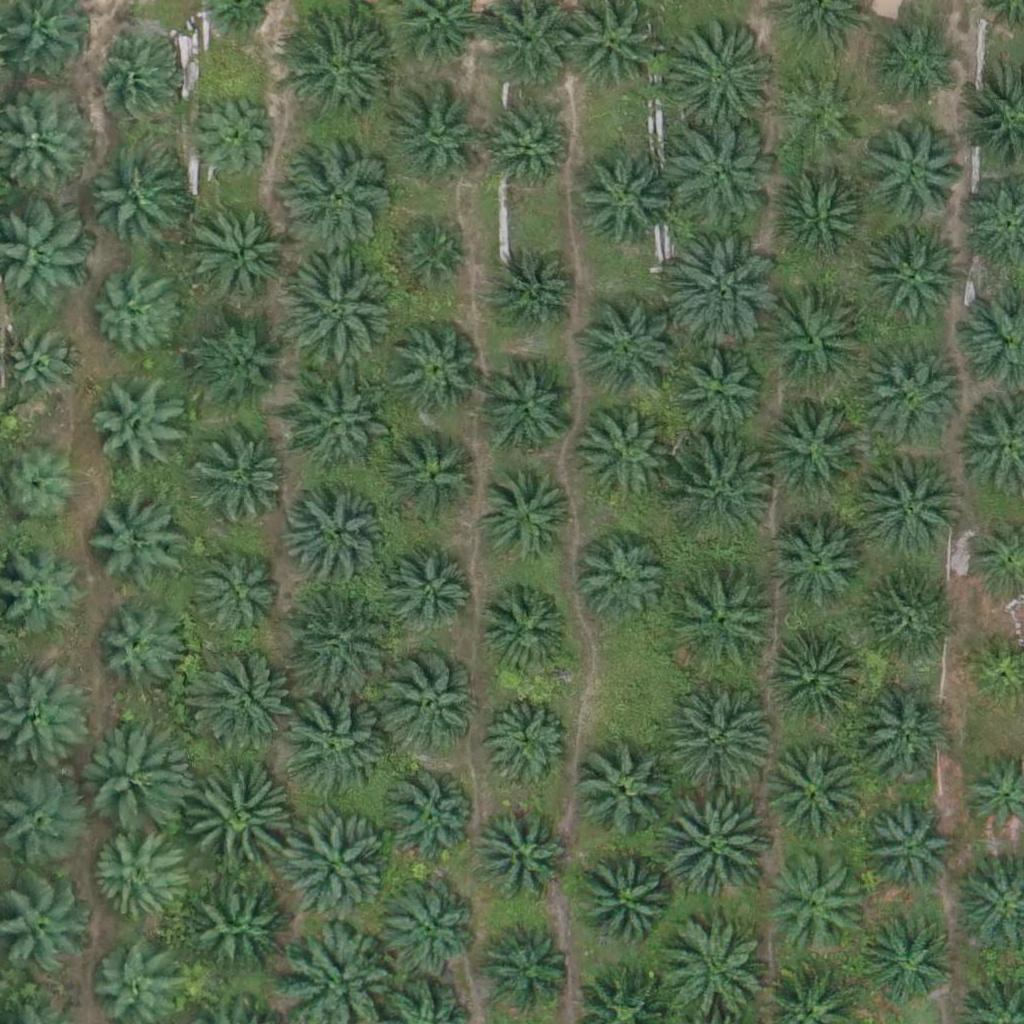Kelapa_Sawit: (185, 641, 298, 755), (277, 260, 390, 374), (279, 689, 392, 803), (666, 18, 779, 132), (663, 435, 776, 549), (667, 571, 780, 685), (277, 143, 390, 256), (282, 583, 395, 696), (662, 238, 775, 351), (660, 683, 773, 796), (760, 284, 873, 397), (663, 790, 776, 903), (275, 809, 388, 922), (179, 768, 291, 881), (280, 10, 392, 123), (668, 125, 780, 238), (760, 394, 872, 507), (858, 337, 970, 450), (854, 452, 966, 565), (75, 722, 175, 823), (188, 201, 288, 302), (286, 380, 386, 481), (288, 489, 388, 590), (386, 424, 486, 525), (475, 469, 575, 570), (575, 740, 675, 841), (570, 533, 670, 634), (573, 408, 673, 509), (581, 300, 681, 401), (575, 150, 675, 251), (666, 347, 766, 448), (771, 628, 871, 729), (771, 511, 871, 612), (769, 166, 869, 267), (860, 231, 960, 332), (855, 575, 955, 676), (860, 684, 960, 785), (763, 849, 863, 950), (193, 883, 293, 984), (86, 151, 186, 251), (89, 368, 189, 468), (87, 484, 187, 584), (185, 540, 285, 640), (192, 427, 292, 527), (191, 319, 291, 419), (386, 651, 486, 751), (385, 319, 485, 419), (486, 246, 586, 346), (479, 362, 579, 462), (479, 583, 579, 683), (378, 772, 478, 872), (767, 742, 867, 842), (871, 124, 971, 224), (577, 850, 677, 950), (480, 915, 580, 1015), (472, 806, 572, 906), (381, 879, 481, 979), (193, 94, 281, 183), (87, 268, 175, 356), (482, 693, 570, 781), (873, 21, 961, 109), (863, 917, 951, 1005), (862, 808, 950, 896), (93, 835, 181, 923), (490, 101, 577, 190), (777, 72, 864, 161), (94, 41, 181, 129), (95, 601, 182, 689), (382, 549, 469, 637), (393, 100, 480, 188), (394, 222, 469, 298)
